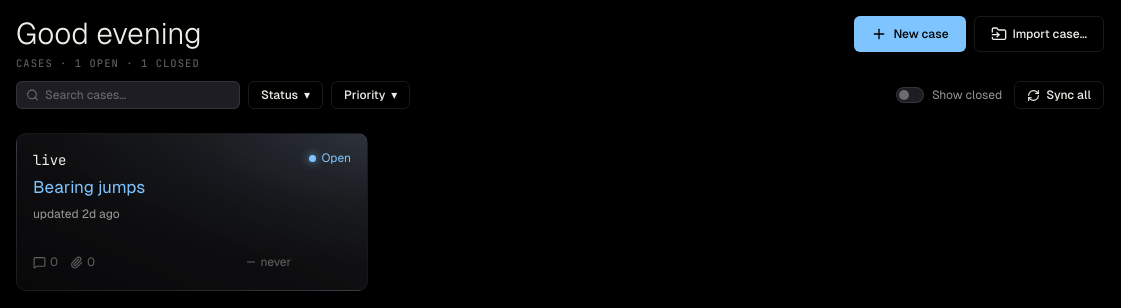
Test: CaseDashboard triage › hides closed cases by default and reveals them on toggle
Expected: the text "done" is not shown
Click the switch named "Show closed cases". click: (949, 95)
box: [896,87,1002,103]
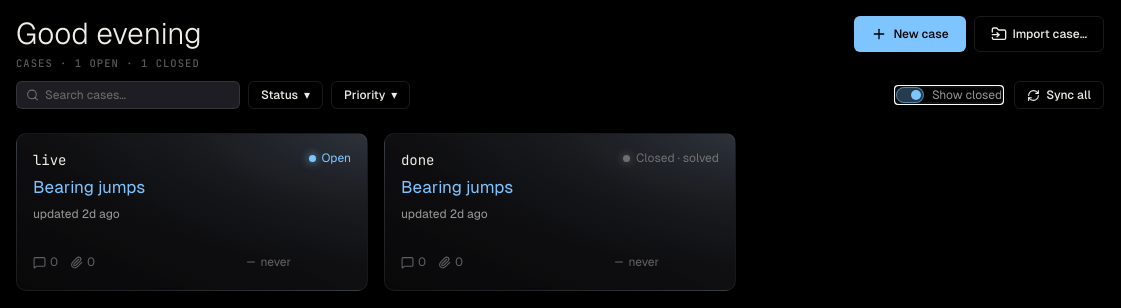
Expected: the text "done" is shown, [401,150,434,170]
